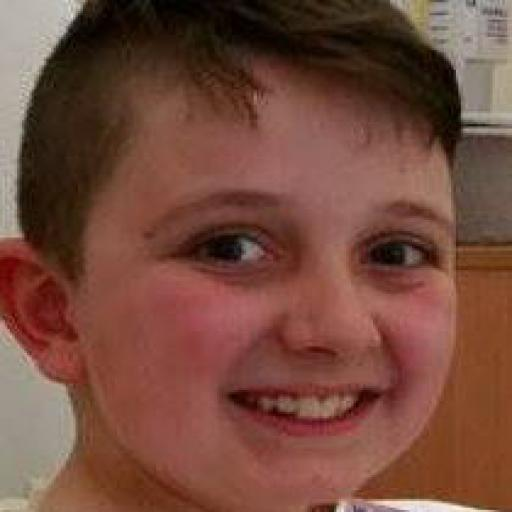Autism: (12, 4, 510, 512)
